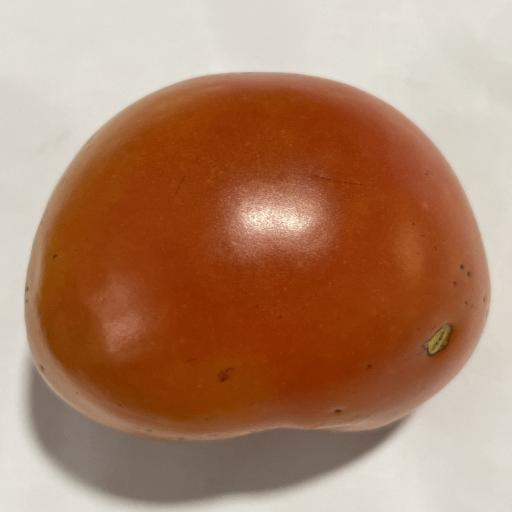unripe: (24, 73, 490, 441)
